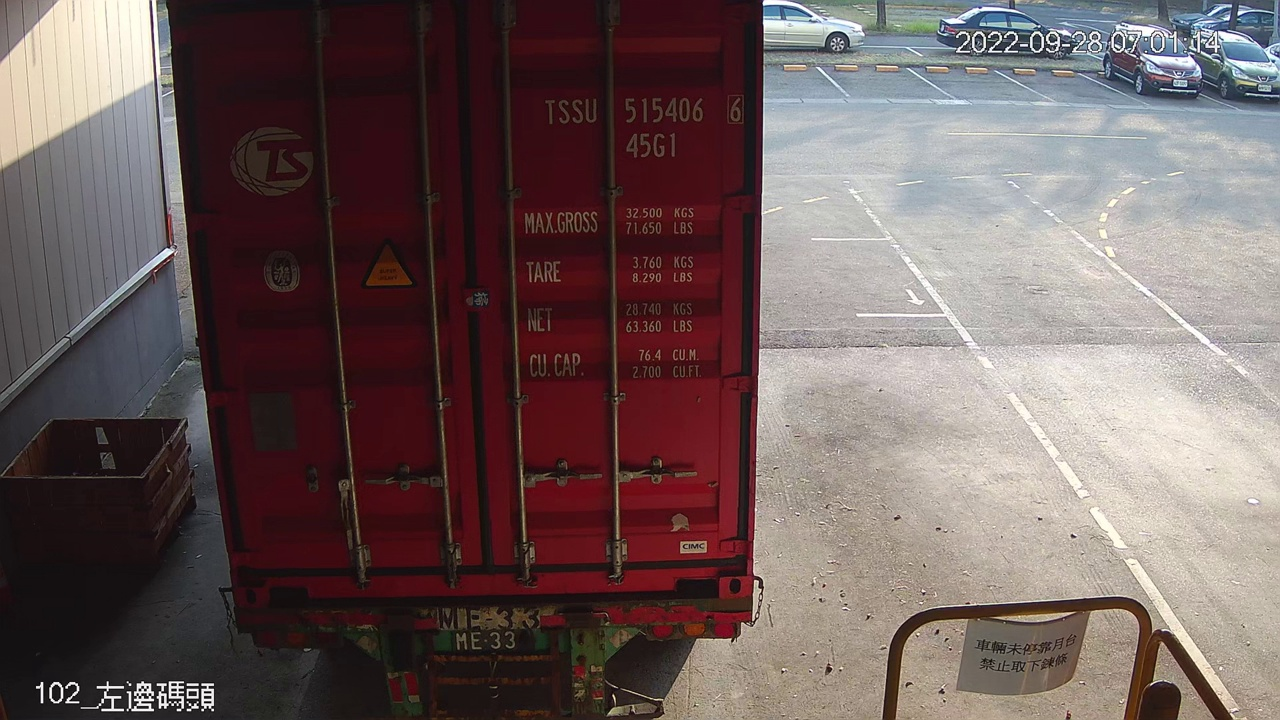container: (536, 86, 751, 167)
